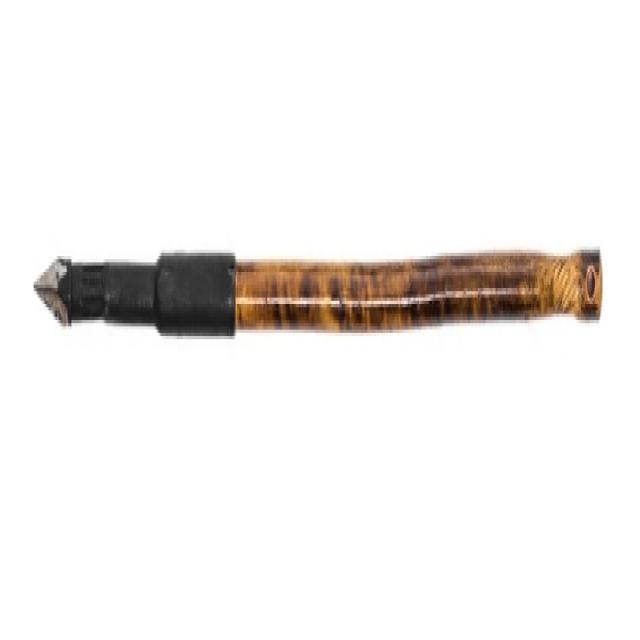spear: (23, 200, 604, 392)
